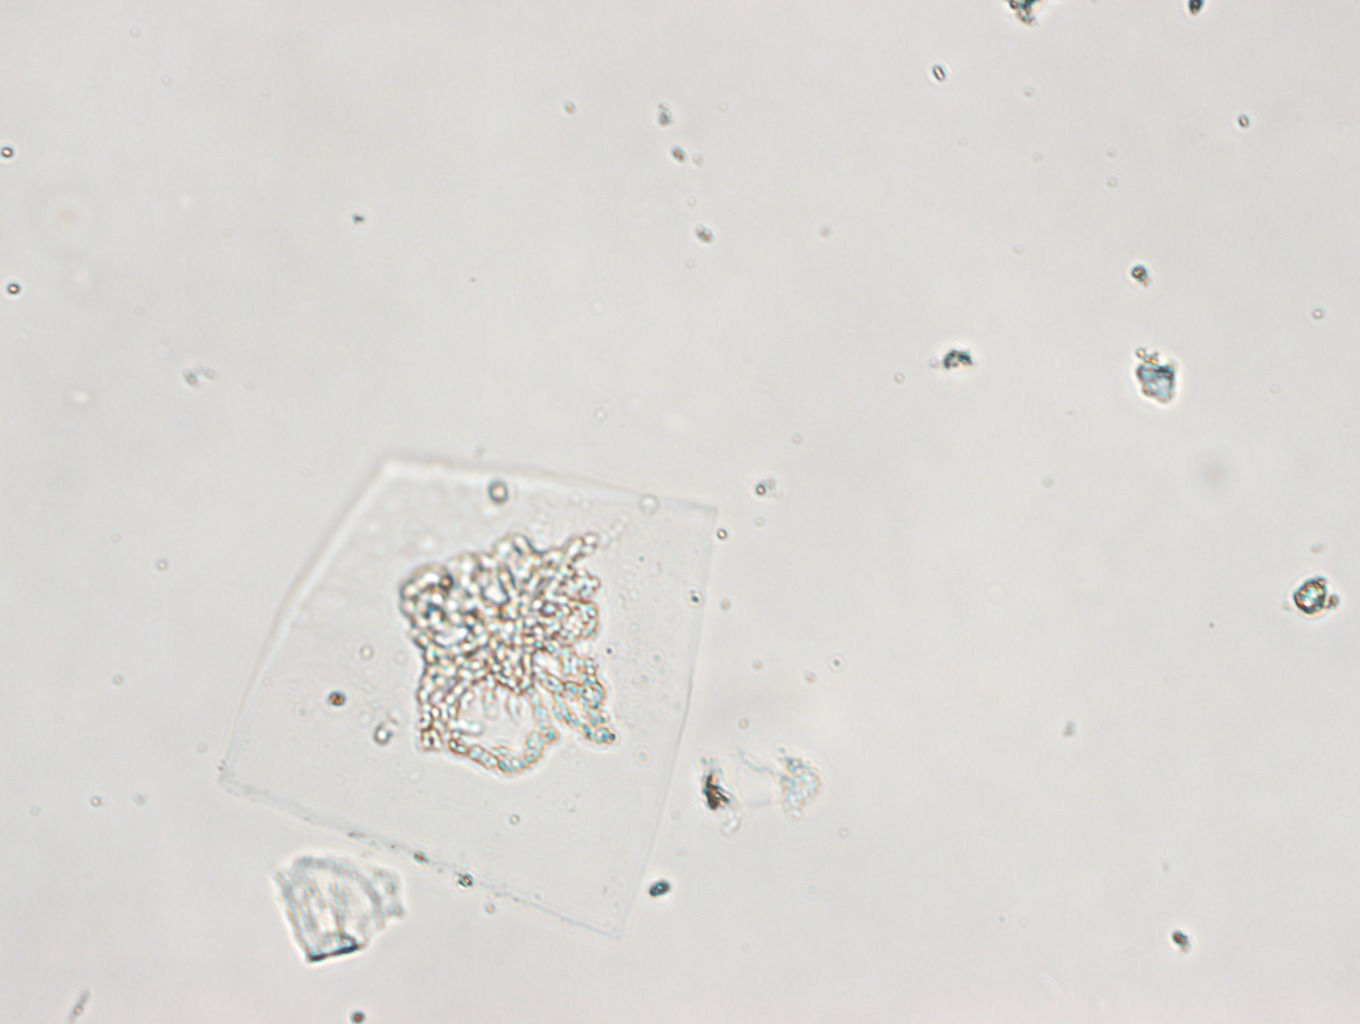helicotheca: (217, 450, 720, 940)
